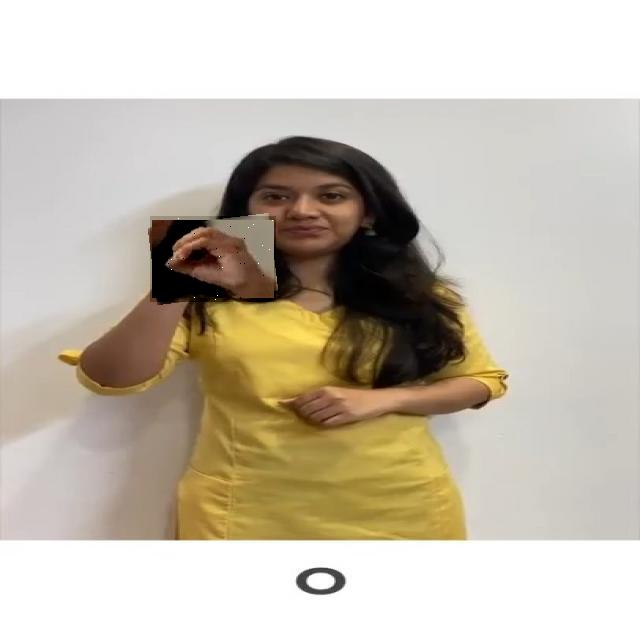O: (150, 216, 276, 302)
